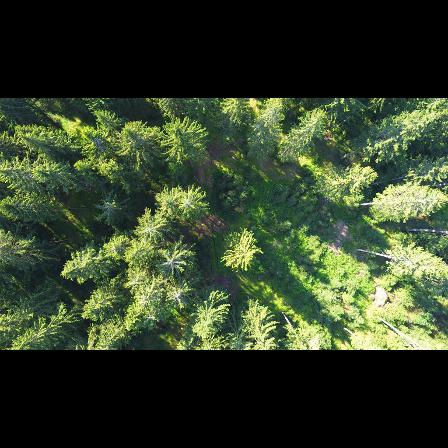Sick: (93, 191, 126, 225), (157, 245, 190, 275), (134, 279, 162, 313), (176, 189, 201, 220), (103, 233, 130, 259), (137, 214, 161, 243), (165, 283, 190, 310)
